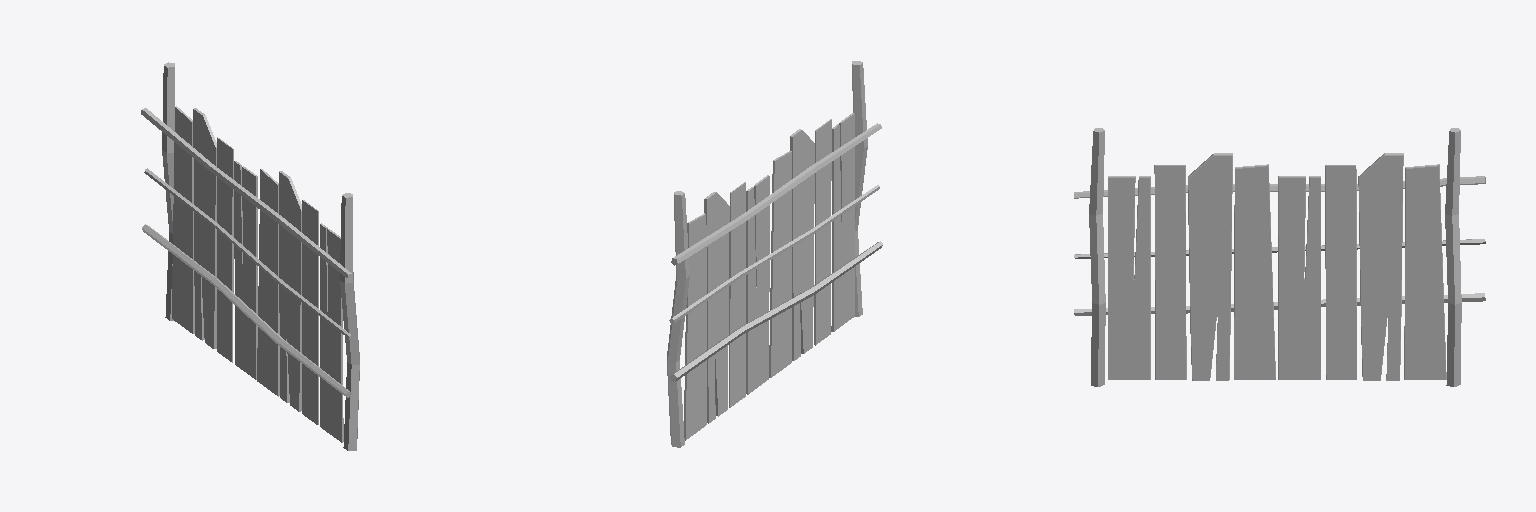
File: Palissade02.obj
The picture shows the model from 3 angles: view 1: azimuth 30°, elevation 25°; view 2: azimuth 150°, elevation 25°; view 3: azimuth 270°, elevation 25°; orthographic projection.
Parts seen in each view (by area): view 1: Palissade02; view 2: Palissade02; view 3: Palissade02.
Part boxes in pixels (x1,y1,x2,y2): Palissade02: (141,62,359,450); Palissade02: (667,61,882,447); Palissade02: (1074,128,1485,386).
Size of the model in its own units: 0.5276 by 4.63 by 6.82.